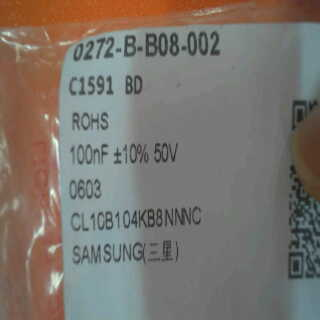100nF: (64, 138, 109, 170)
